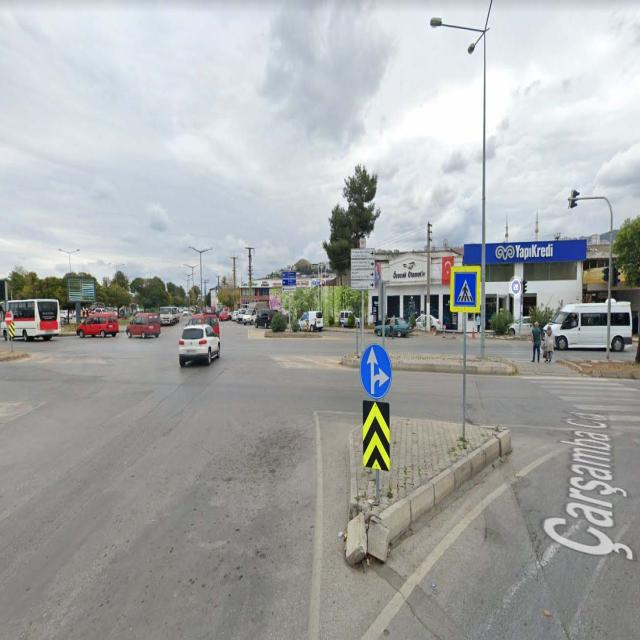ilerisag: (360, 344, 393, 399)
